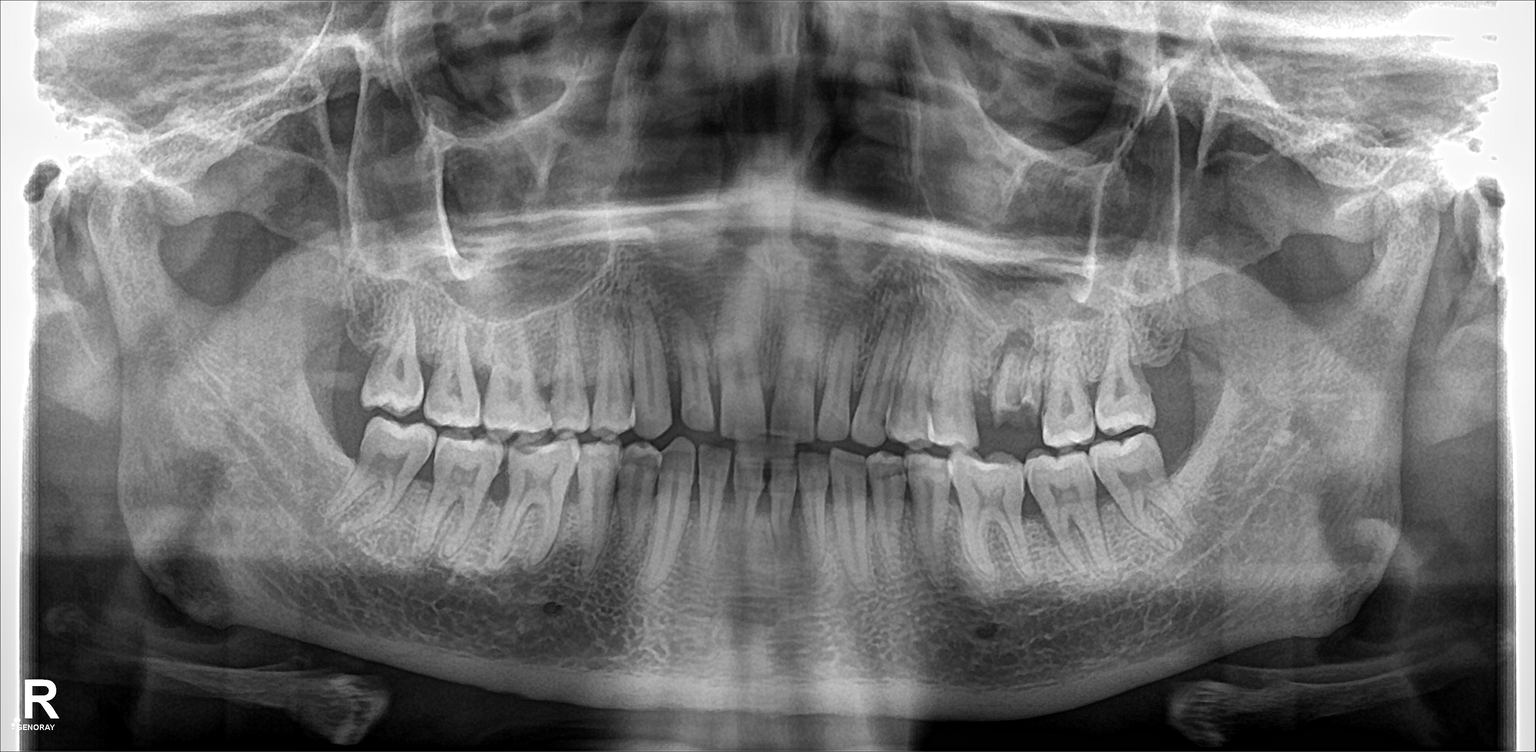Missing Tooth: (1145, 316, 1195, 407), (330, 292, 375, 380), (330, 404, 359, 474)
Retained Root: (976, 339, 1012, 438), (1013, 337, 1041, 434)
